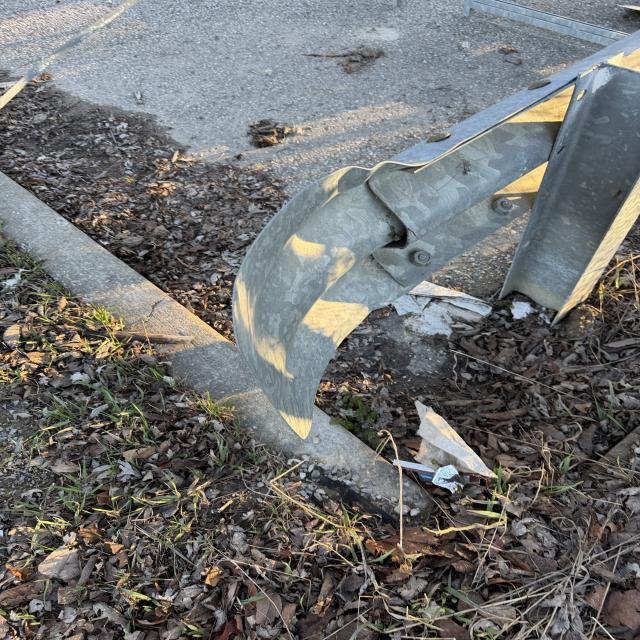Guard rail: (242, 78, 640, 325)
